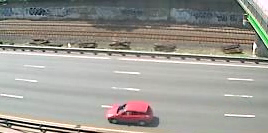car: (104, 100, 158, 128)
